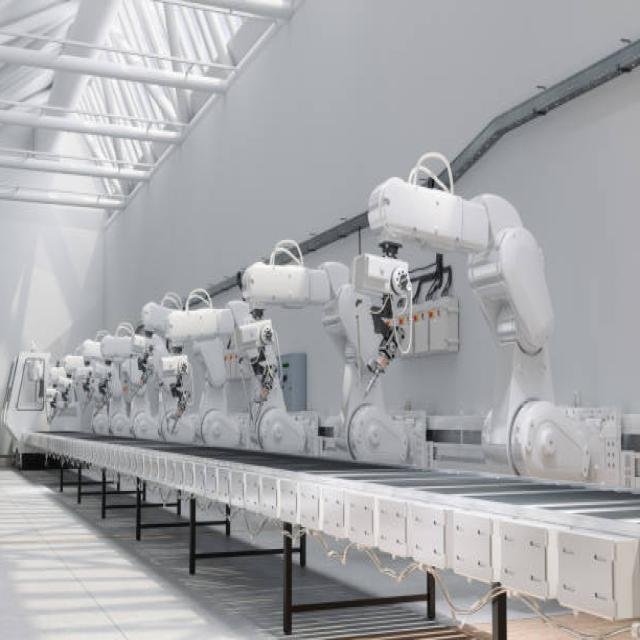Robotic-arm: (371, 164, 558, 464), (245, 244, 406, 452), (178, 293, 278, 457), (108, 322, 162, 438), (40, 352, 96, 438)
